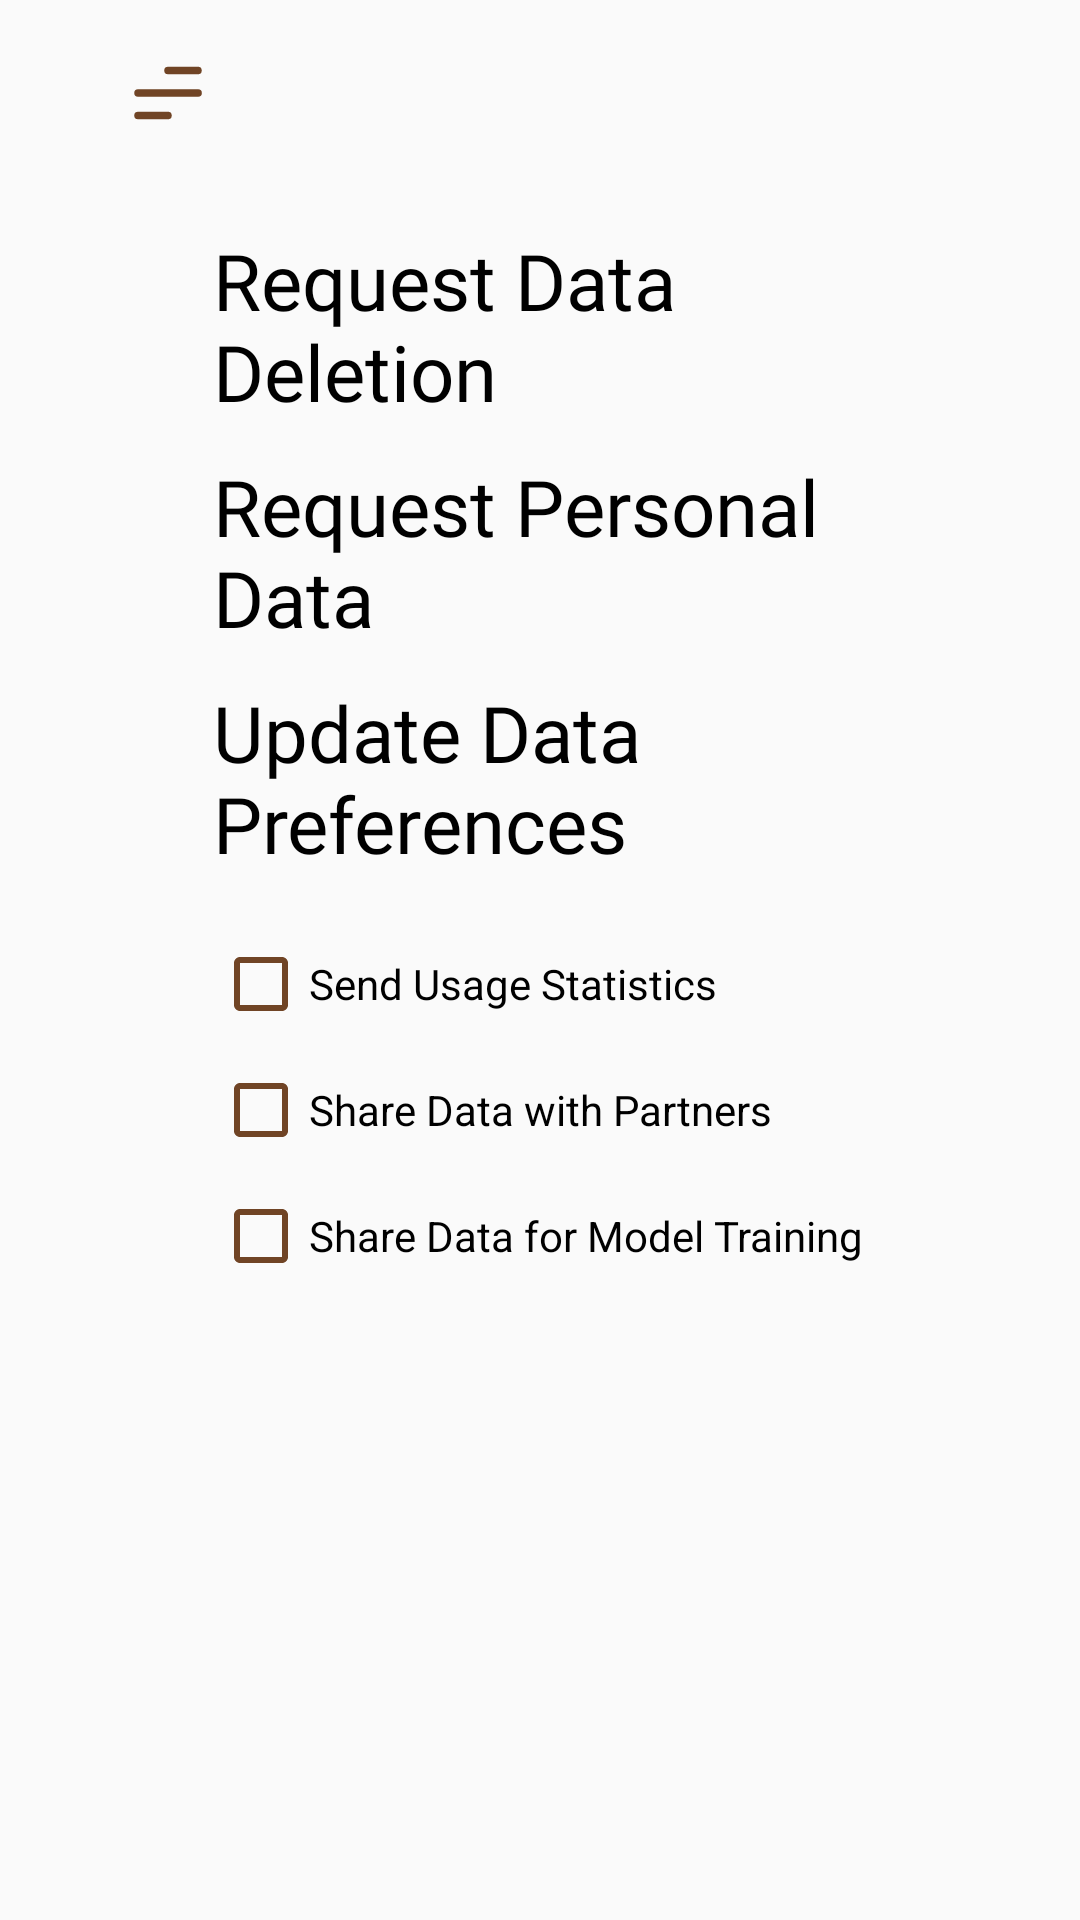

Point at icon controls on the screen. Image size 1080px×1920px, points as (x=x, y=y).
menu: (x=168, y=93)
